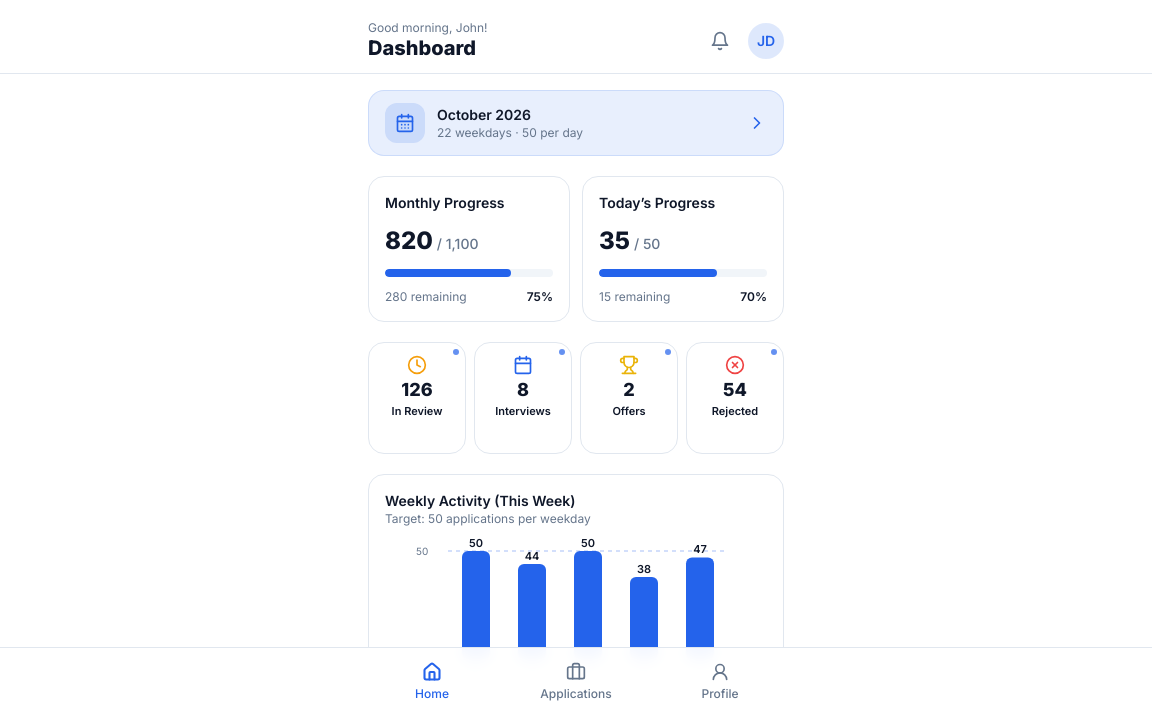
Test: student navigation › notification bell navigates to the Notifications page
Click the link named "notifications": (720, 40) x1=710 y1=30 x2=730 y2=50
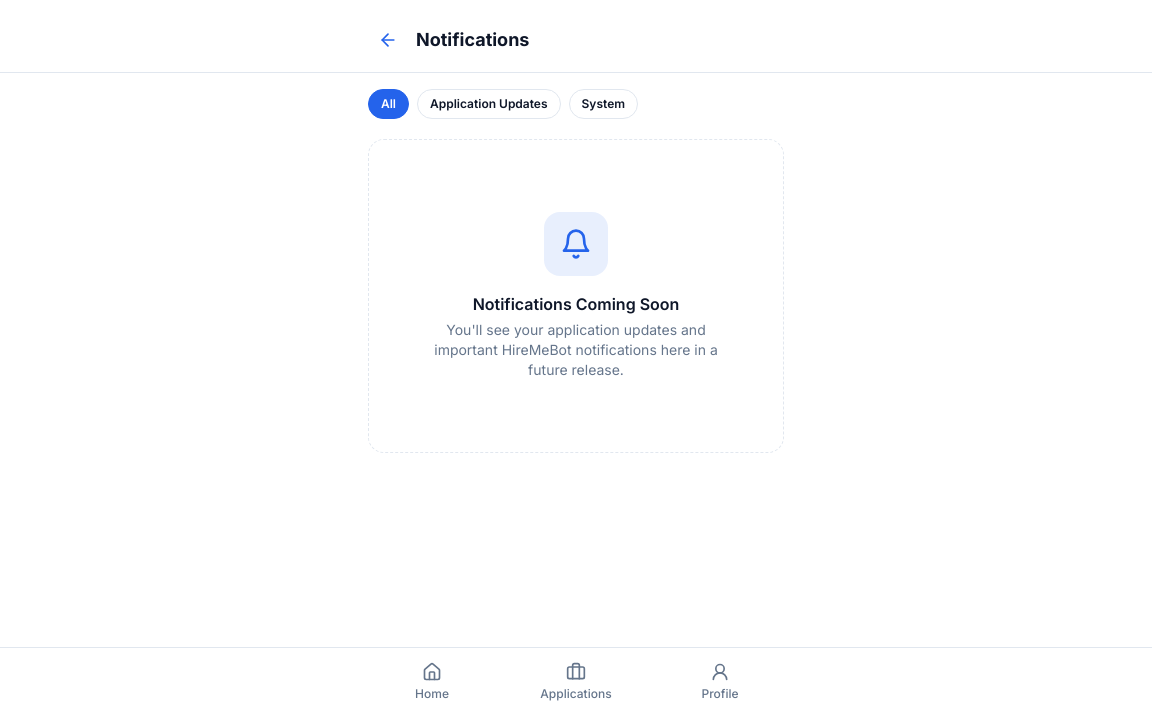
Expected: the heading "Notifications Coming Soon" is shown, x1=473 y1=292 x2=679 y2=316
